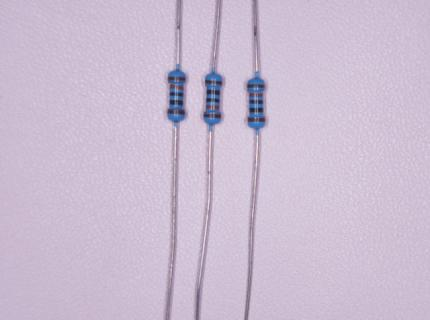Black band: (207, 89, 220, 95), (250, 107, 263, 113), (206, 98, 220, 103), (170, 92, 183, 97), (170, 100, 183, 105), (250, 99, 263, 104)
Brown band: (167, 109, 185, 115), (248, 117, 265, 122), (205, 80, 221, 85), (204, 114, 221, 118), (248, 84, 264, 88), (169, 77, 185, 80)
Orange band: (170, 85, 183, 90), (250, 93, 263, 97), (207, 105, 219, 109)
